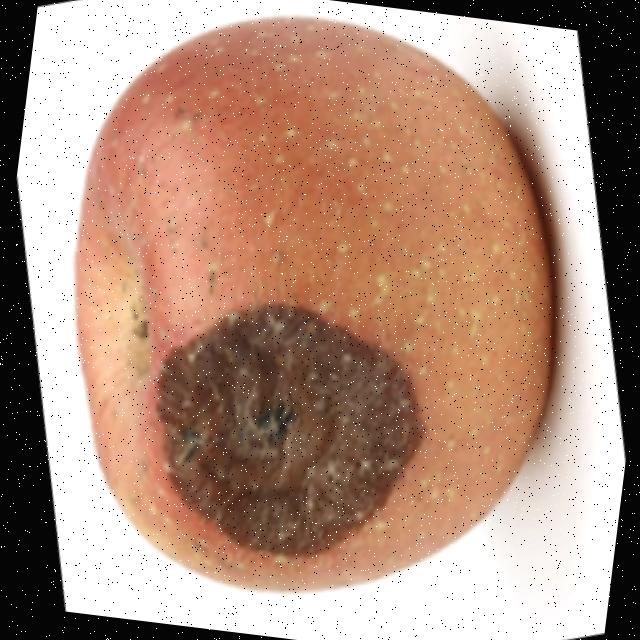Rotten: (28, 0, 593, 627)
